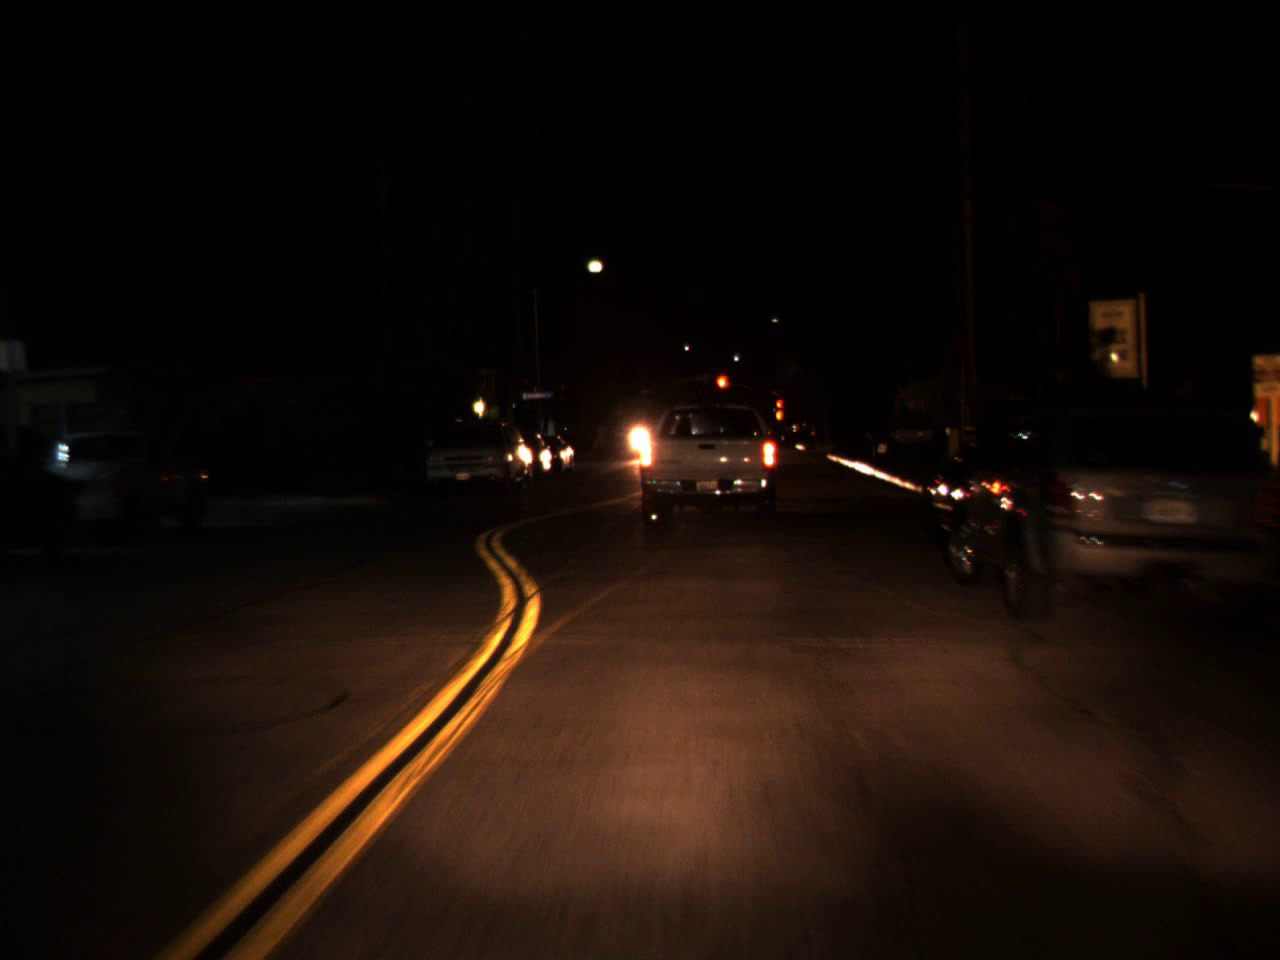stop: (714, 373, 730, 405), (774, 398, 783, 419)
